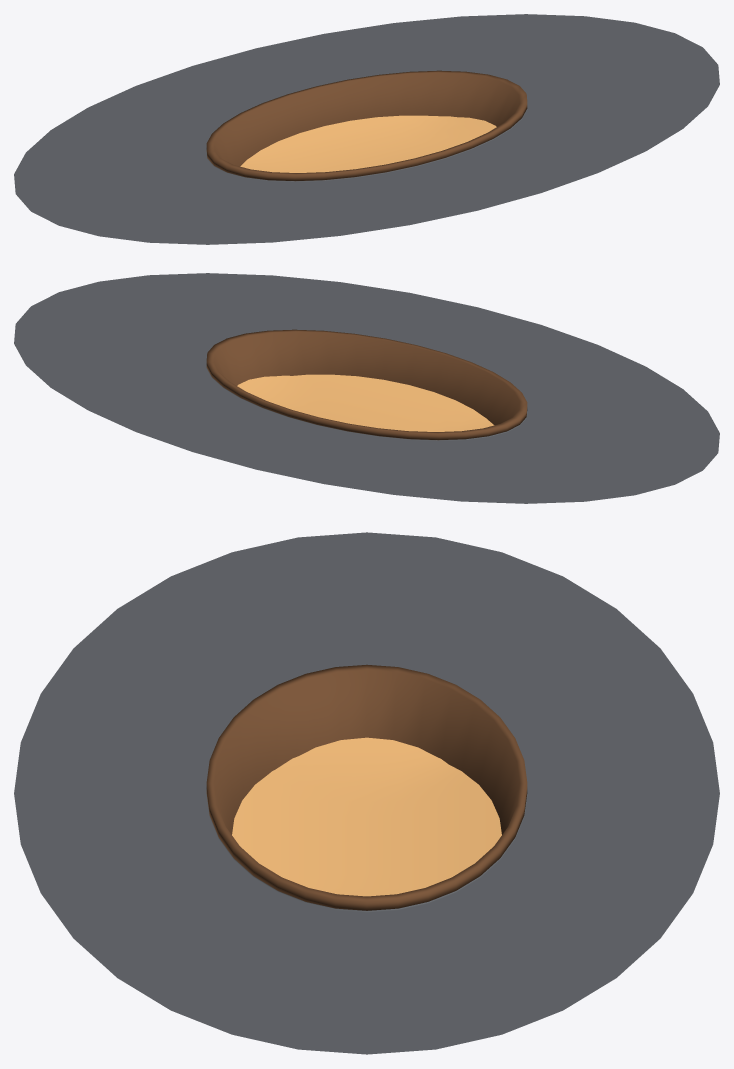
Rendered from Enclosure.fbx.
The picture shows the model from 3 angles, top to bottom: view 1: azimuth 30°, elevation 25°; view 2: azimuth 150°, elevation 25°; view 3: azimuth 270°, elevation 25°; orthographic projection. The views are drawn at different scales.
Parts seen in each view (by area): view 1: Enclosure; view 2: Enclosure; view 3: Enclosure.
Boxes of the visible parts, <box> form: Enclosure: <box>14,14,719,244</box>; Enclosure: <box>14,273,719,503</box>; Enclosure: <box>14,532,719,1054</box>.
Bounding box in the file's own units: 14498 × 800 × 8285.
